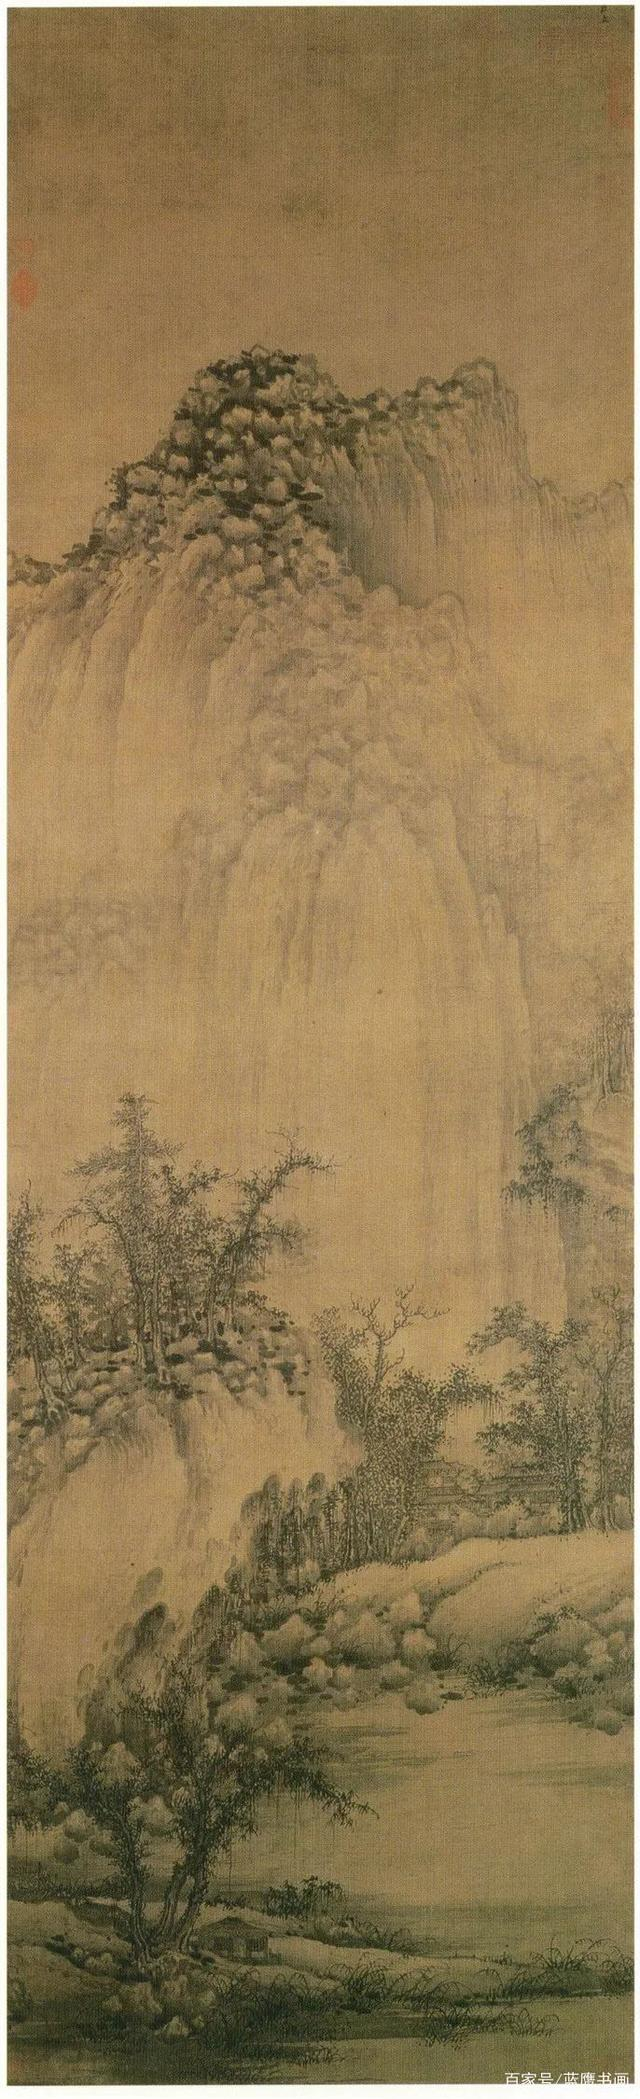house: (414, 1456, 556, 1519), (193, 1913, 283, 1979)
mountain: (16, 357, 574, 1278)
river: (229, 1660, 640, 2058)
tree: (1, 1738, 367, 1946), (33, 1154, 244, 1311), (510, 1309, 637, 1527), (325, 1320, 412, 1561)
